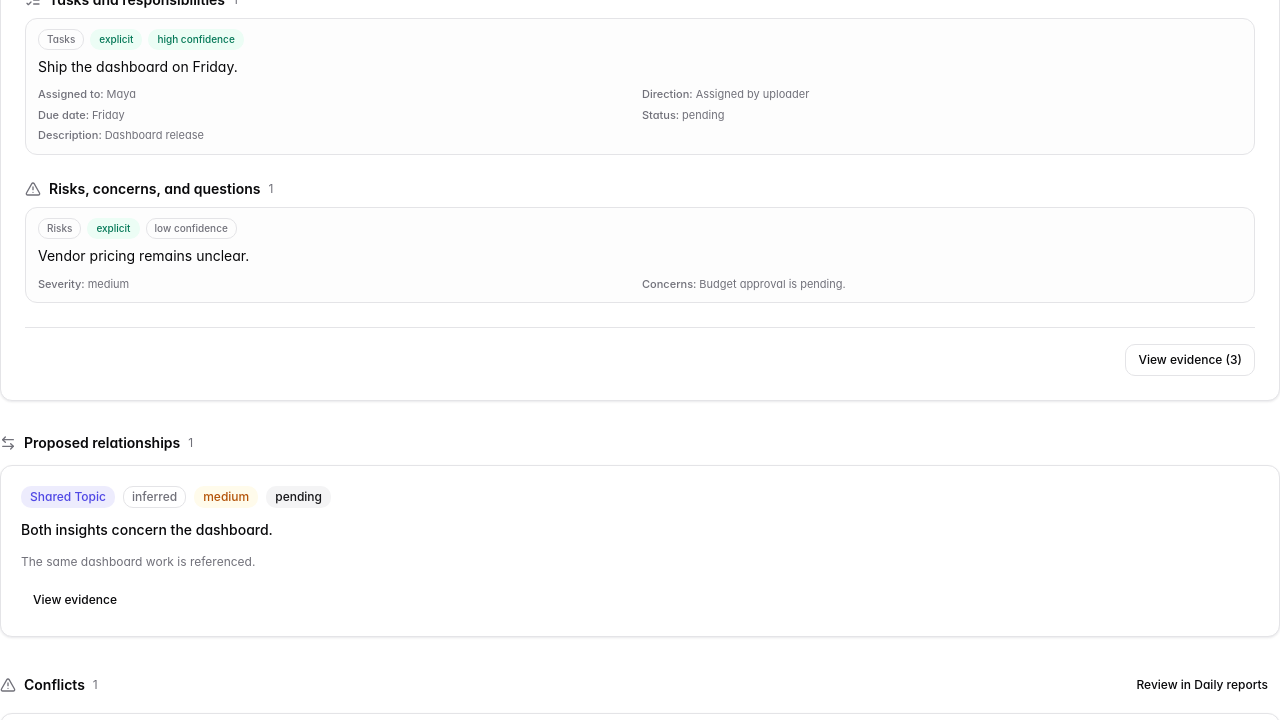
Test: dashboard › renders one rich recording card with bullet summary and evidence navigation
(page scrolled)
Expected: the heading "Risks, concerns, and questions" is shown, [49,179,260,199]
Expected: the heading "Proposed relationships" is shown, [24,433,180,453]
Click the button "View evidence (3)" at (1190, 360), box [1126,344,1255,376]
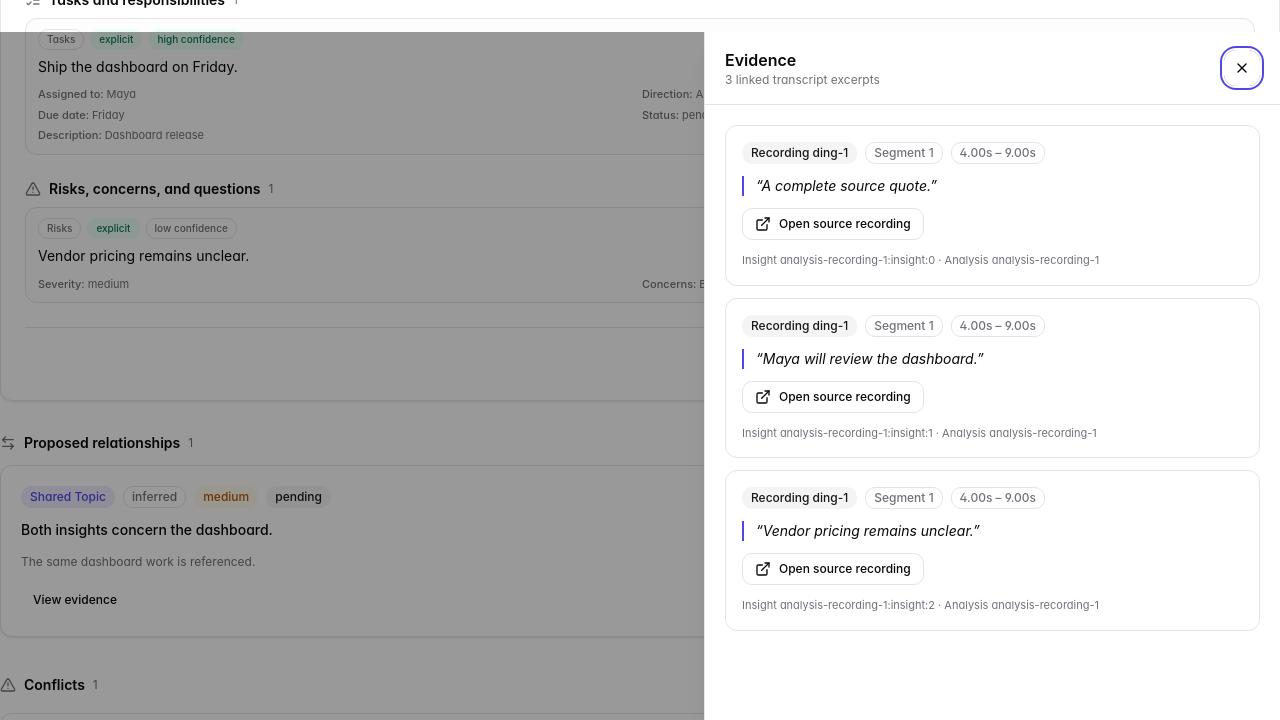
Click the button "Open source recording" below "A complete source quote." at (833, 224), box [742,208,924,240]
(page scrolled)
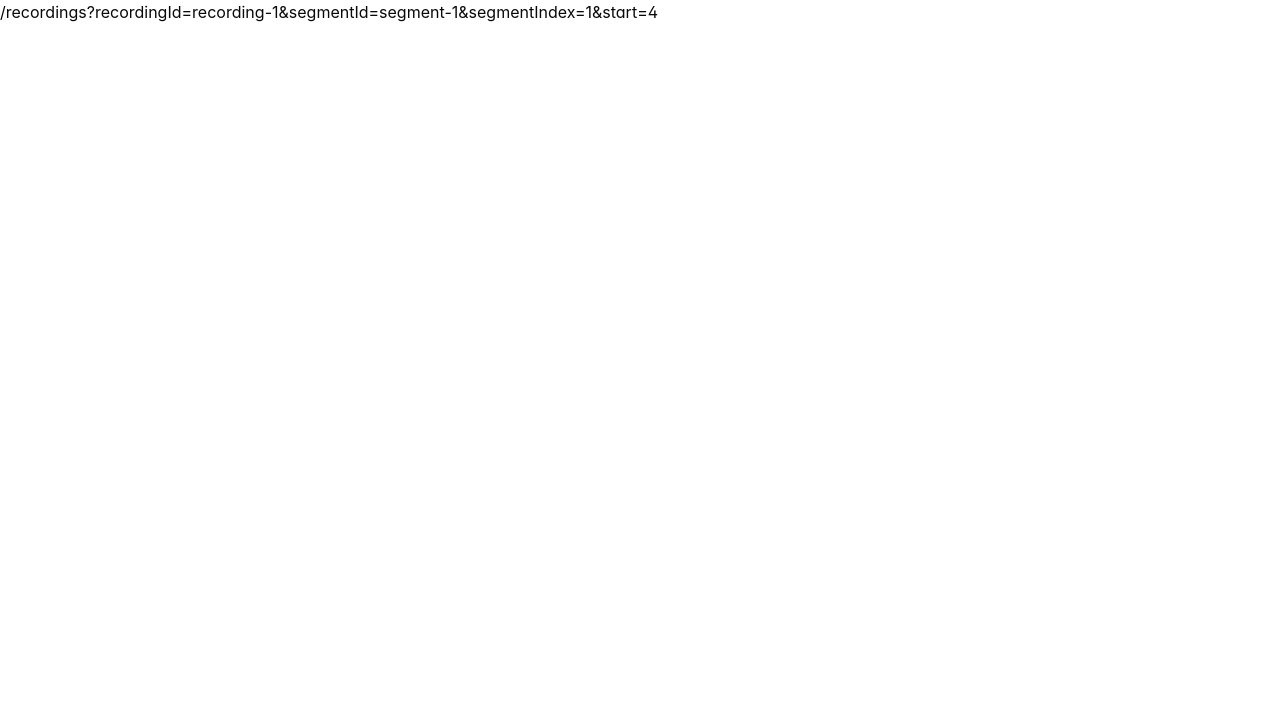
Expected: the text with test id "location" shows "/recordings", [0,2,87,22]
